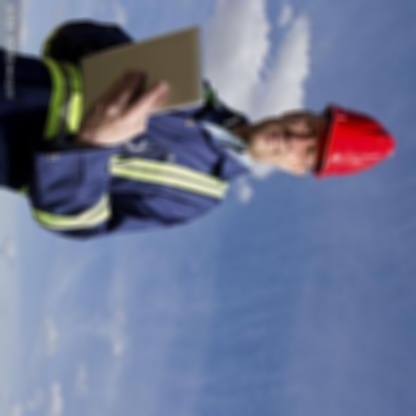red: (308, 100, 401, 182)
vest: (22, 20, 241, 243)
